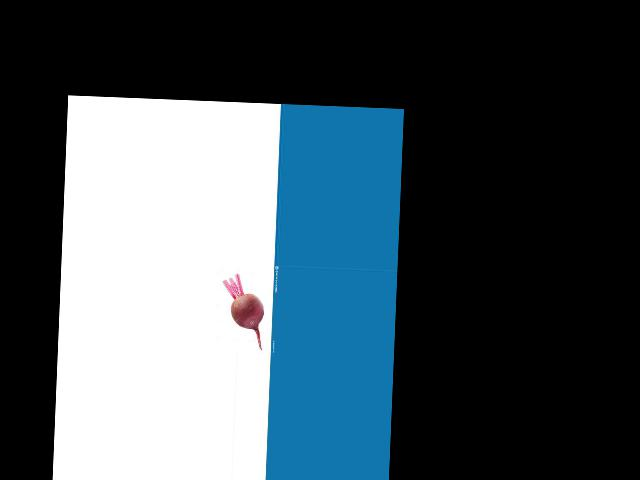beet: (220, 273, 265, 349)
